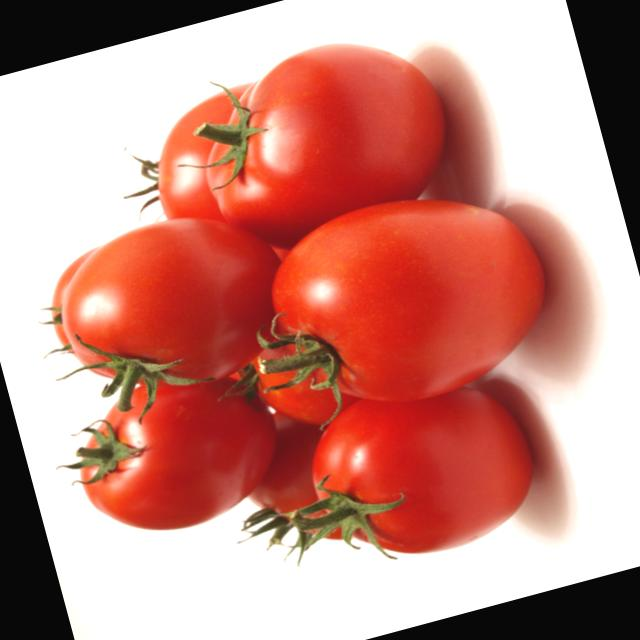tomato: (238, 169, 562, 426), (182, 22, 468, 252), (31, 206, 286, 422), (304, 362, 550, 581), (52, 350, 292, 558)
